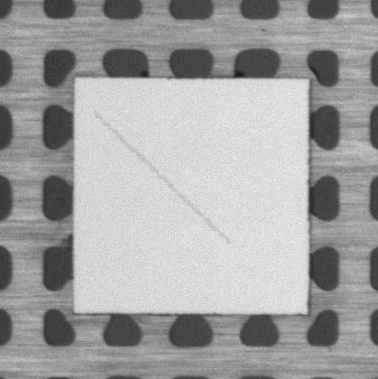DIE_CRACK: (94, 112, 228, 243)
